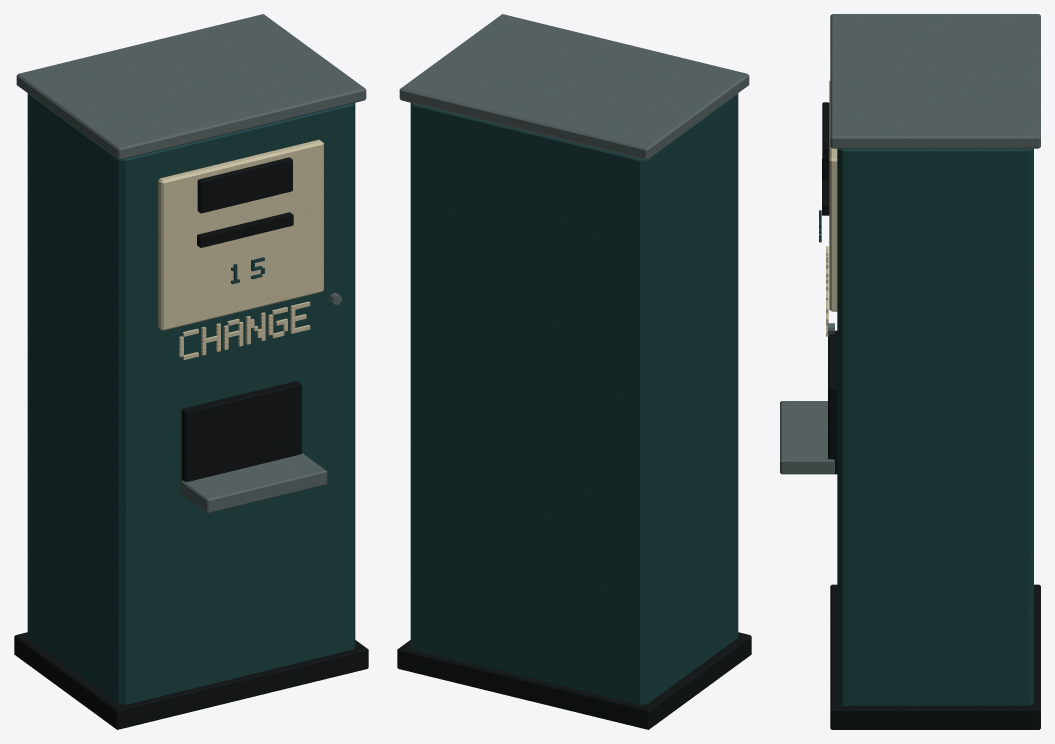
File: laundry_change_machine.glb
3 renders of one model, left to right at view 1: azimuth 30°, elevation 25°; view 2: azimuth 150°, elevation 25°; view 3: azimuth 270°, elevation 25°, orthographic.
Parts seen in each view (by area): view 1: laundry_change_machine; view 2: laundry_change_machine; view 3: laundry_change_machine.
Boxes of the visible parts, box(x1,y1,x2,y2) form: laundry_change_machine: box(14, 14, 368, 729); laundry_change_machine: box(397, 14, 751, 729); laundry_change_machine: box(780, 14, 1040, 729).
Size of the model in its own units: 0.65 by 1.43 by 0.57.
4 materials, 4 textured.
